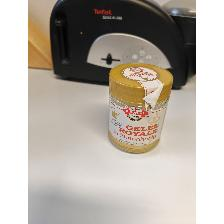Honig: (108, 63, 174, 155)
